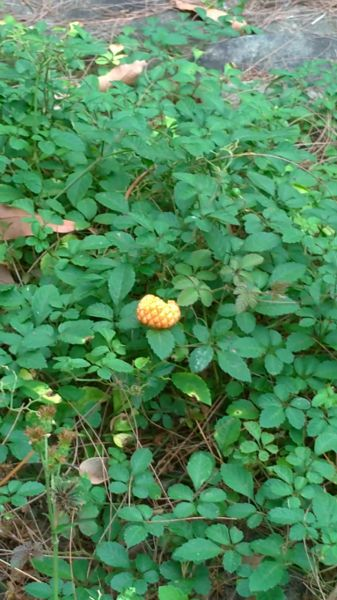eggs: (128, 290, 187, 331)
